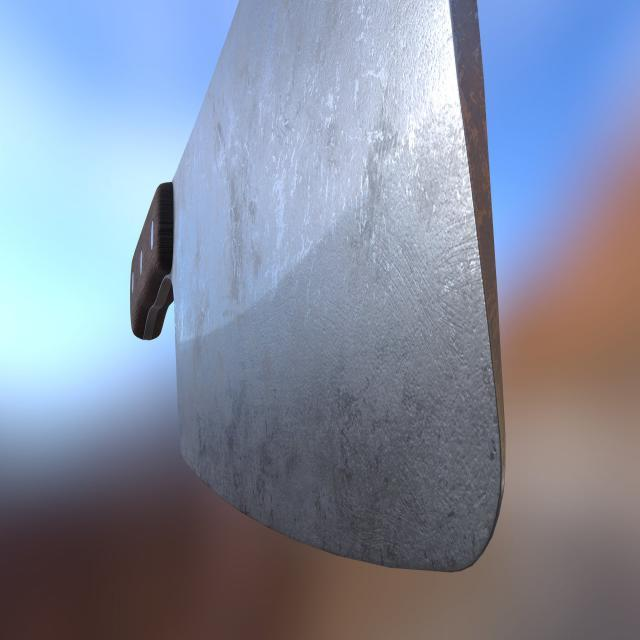cleaver: (127, 0, 506, 567)
